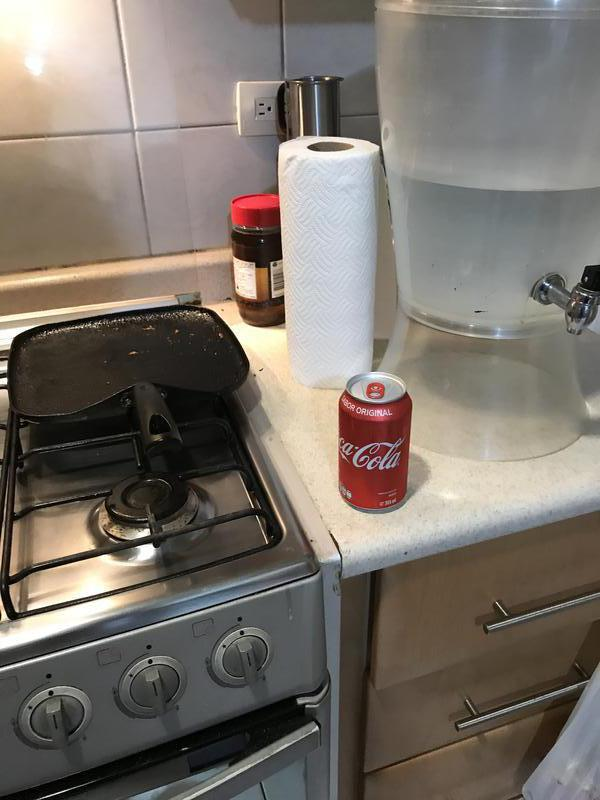coca_cola: (339, 374, 410, 512)
